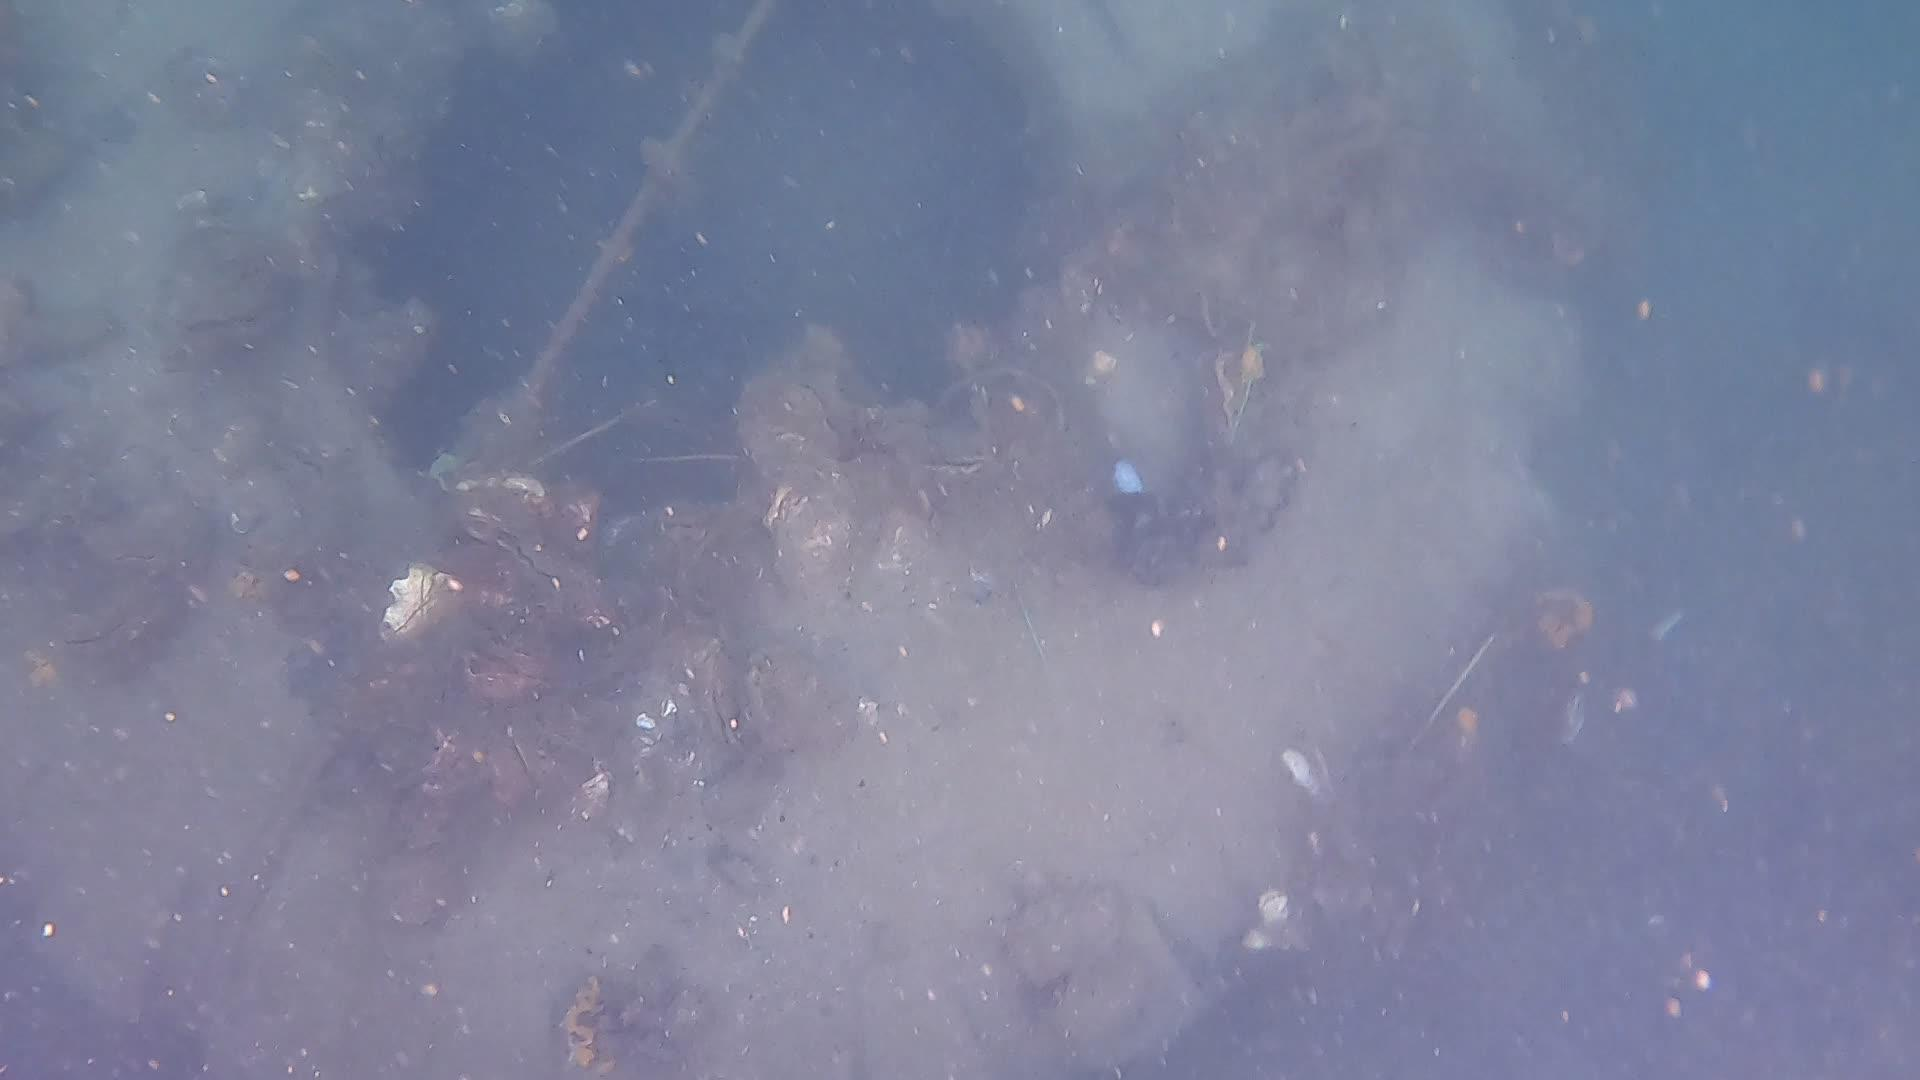tire: (0, 0, 1586, 1080)
